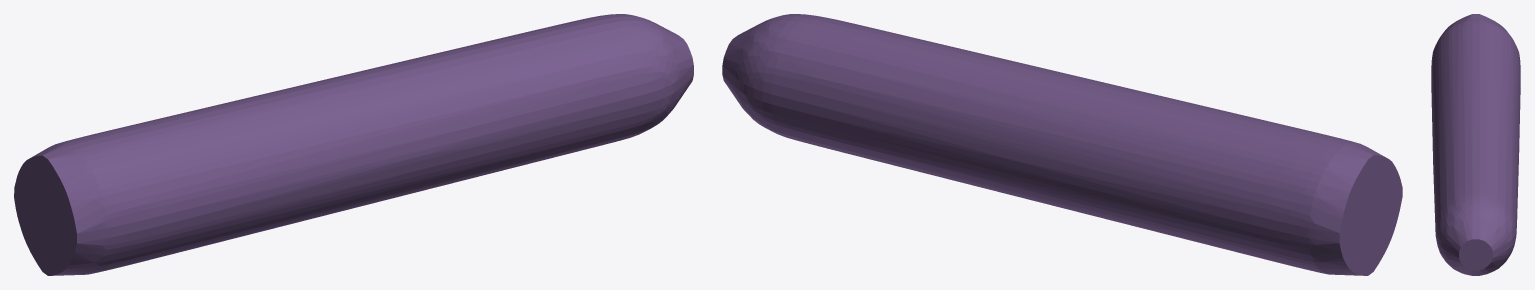
3 views of the same model, side by side, from view 1: azimuth 30°, elevation 25°; view 2: azimuth 150°, elevation 25°; view 3: azimuth 270°, elevation 25° (orthographic). The views are drawn at different scales.
Bounding box in the file's own units: 0.1005 × 0.0187 × 0.0188.
